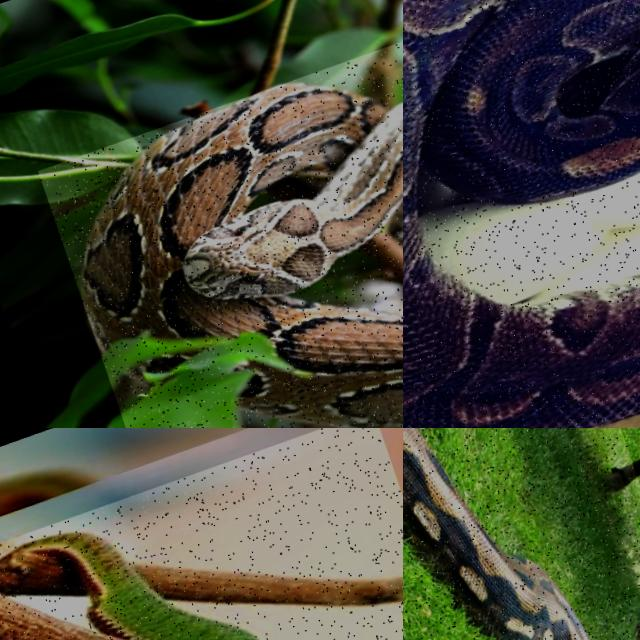Daboia siamensis: (82, 84, 402, 427)
Malayopython reticulatus: (403, 428, 588, 639)
Python bivittatus: (403, 0, 639, 427)
Trimeresurus: (0, 535, 253, 639)
